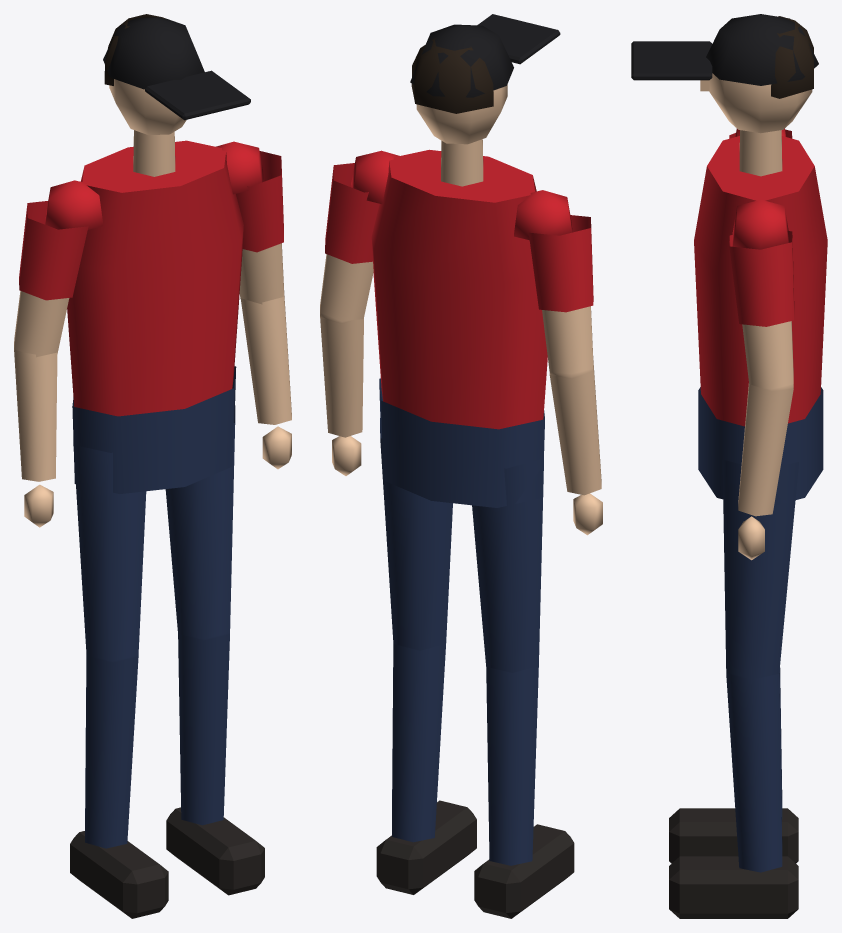
The model's file is fan_a.dae.
3 views of the same model, side by side, from view 1: azimuth 30°, elevation 25°; view 2: azimuth 150°, elevation 25°; view 3: azimuth 270°, elevation 25° (orthographic).
Visible parts, largest first — view 1: marker; view 2: marker; view 3: marker.
Boxes of the visible parts, x1,y1,x2,y2 form: marker: (14,14,291,918); marker: (320,14,602,918); marker: (631,14,827,918).
Bounding box in the file's own units: 0.5884 × 0.3639 × 1.78.
1 material, 1 textured.
